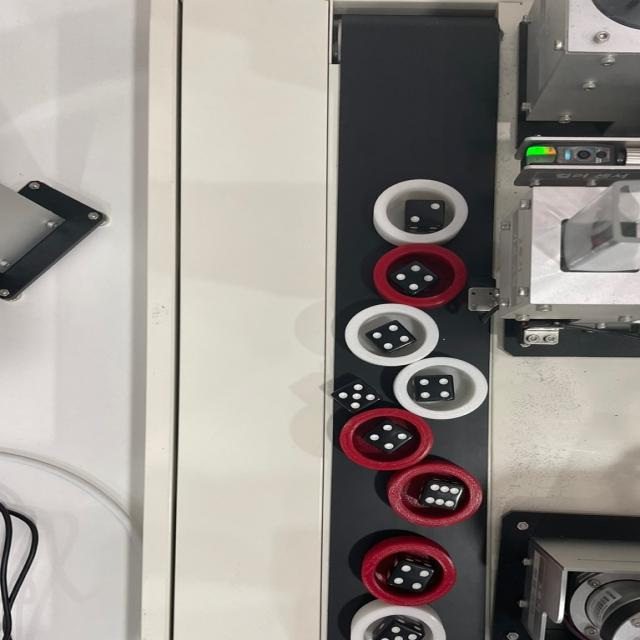DICE2: (405, 199, 446, 227)
DICE4: (364, 422, 411, 451), (368, 321, 411, 352), (394, 263, 436, 290), (390, 564, 430, 590), (416, 376, 449, 398)
DICE5: (335, 380, 379, 410), (375, 625, 422, 640)
DICE6: (420, 482, 462, 508)
RedChip: (386, 463, 478, 528), (336, 408, 434, 469), (358, 544, 454, 606), (371, 243, 463, 304)
WhiteChip: (370, 177, 469, 244), (391, 357, 489, 419), (340, 302, 435, 365), (346, 606, 445, 640)
